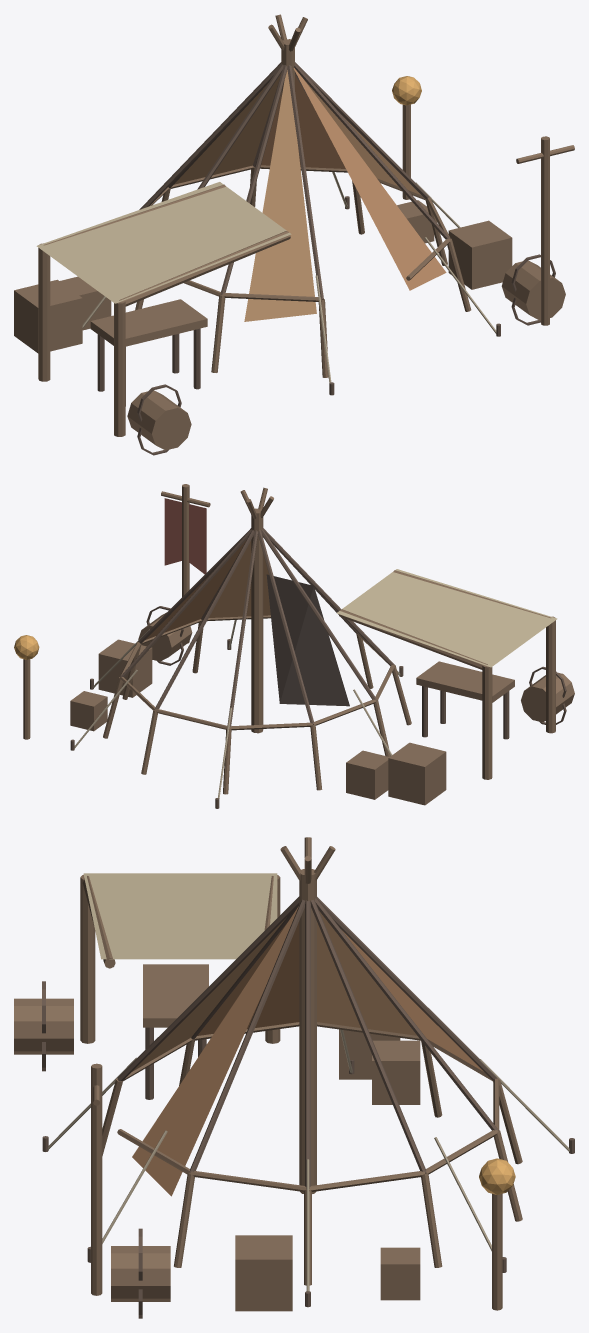
Rendered from Campsite_Tent.glb.
3 renders of one model, top to bottom at view 1: azimuth 30°, elevation 25°; view 2: azimuth 150°, elevation 25°; view 3: azimuth 270°, elevation 25°, orthographic. The views are drawn at different scales.
Parts seen in each view (by area): view 1: Awning_Canvas, Entrance_Flap_Left, Entrance_Flap_Right, Wood_Crate_0, Wood_Crate_2, Tent_Canvas_Panel_07, Market_Table_Top, Tent_Canvas_Panel_08, Barrel_0, Barrel_1, Banner_Pole, Awning_Post_0 (+13 smaller); view 2: Awning_Canvas, Dark_Entrance_Interior, Wood_Crate_0, Central_Mast, Banner_Red, Market_Table_Top, Wood_Crate_2, Tent_Canvas_Panel_01, Wood_Crate_1, Tent_Canvas_Panel_00, Barrel_0, Awning_Post_0 (+14 smaller); view 3: Awning_Canvas, Entrance_Flap_Right, Tent_Canvas_Panel_05, Wood_Crate_2, Central_Mast, Tent_Canvas_Panel_04, Market_Table_Top, Barrel_0, Barrel_1, Wood_Crate_1, Banner_Pole, Awning_Post_1 (+20 smaller).
Part boxes in pixels (x1=…): Awning_Canvas: x1=36, y1=182, x2=291, y2=303; Entrance_Flap_Left: x1=244, y1=70, x2=316, y2=321; Entrance_Flap_Right: x1=293, y1=68, x2=446, y2=290; Wood_Crate_0: x1=14, y1=279, x2=82, y2=353; Wood_Crate_2: x1=448, y1=220, x2=512, y2=289; Tent_Canvas_Panel_07: x1=174, y1=73, x2=281, y2=184; Market_Table_Top: x1=90, y1=299, x2=207, y2=346; Tent_Canvas_Panel_08: x1=261, y1=75, x2=345, y2=168; Barrel_0: x1=127, y1=390, x2=191, y2=450; Barrel_1: x1=501, y1=260, x2=565, y2=320; Banner_Pole: x1=541, y1=136, x2=549, y2=325; Awning_Post_0: x1=38, y1=243, x2=50, y2=381; Awning_Canvas: x1=336, y1=569, x2=557, y2=667; Dark_Entrance_Interior: x1=266, y1=574, x2=349, y2=706; Wood_Crate_0: x1=388, y1=742, x2=446, y2=805; Central_Mast: x1=251, y1=508, x2=263, y2=733; Banner_Red: x1=164, y1=498, x2=206, y2=574; Market_Table_Top: x1=416, y1=661, x2=514, y2=702; Wood_Crate_2: x1=98, y1=639, x2=152, y2=697; Tent_Canvas_Panel_01: x1=209, y1=540, x2=270, y2=617; Wood_Crate_1: x1=346, y1=750, x2=389, y2=799; Tent_Canvas_Panel_00: x1=145, y1=539, x2=246, y2=639; Barrel_0: x1=521, y1=672, x2=574, y2=722; Awning_Post_0: x1=482, y1=665, x2=492, y2=779; Awning_Canvas: x1=83, y1=873, x2=277, y2=959; Entrance_Flap_Right: x1=132, y1=906, x2=298, y2=1196; Tent_Canvas_Panel_05: x1=317, y1=911, x2=417, y2=1035; Wood_Crate_2: x1=235, y1=1235, x2=292, y2=1311; Central_Mast: x1=299, y1=869, x2=316, y2=1193; Tent_Canvas_Panel_04: x1=197, y1=921, x2=299, y2=1035; Market_Table_Top: x1=143, y1=964, x2=208, y2=1027; Barrel_0: x1=14, y1=998, x2=73, y2=1054; Barrel_1: x1=111, y1=1246, x2=170, y2=1301; Wood_Crate_1: x1=372, y1=1040, x2=420, y2=1104; Banner_Pole: x1=91, y1=1063, x2=102, y2=1295; Awning_Post_1: x1=80, y1=875, x2=95, y2=1043.
Bounding box in the file's own units: 7.61 × 4.54 × 6.37.
